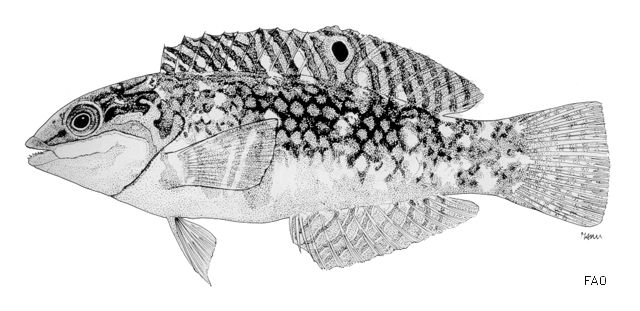fish: (25, 24, 611, 289)
